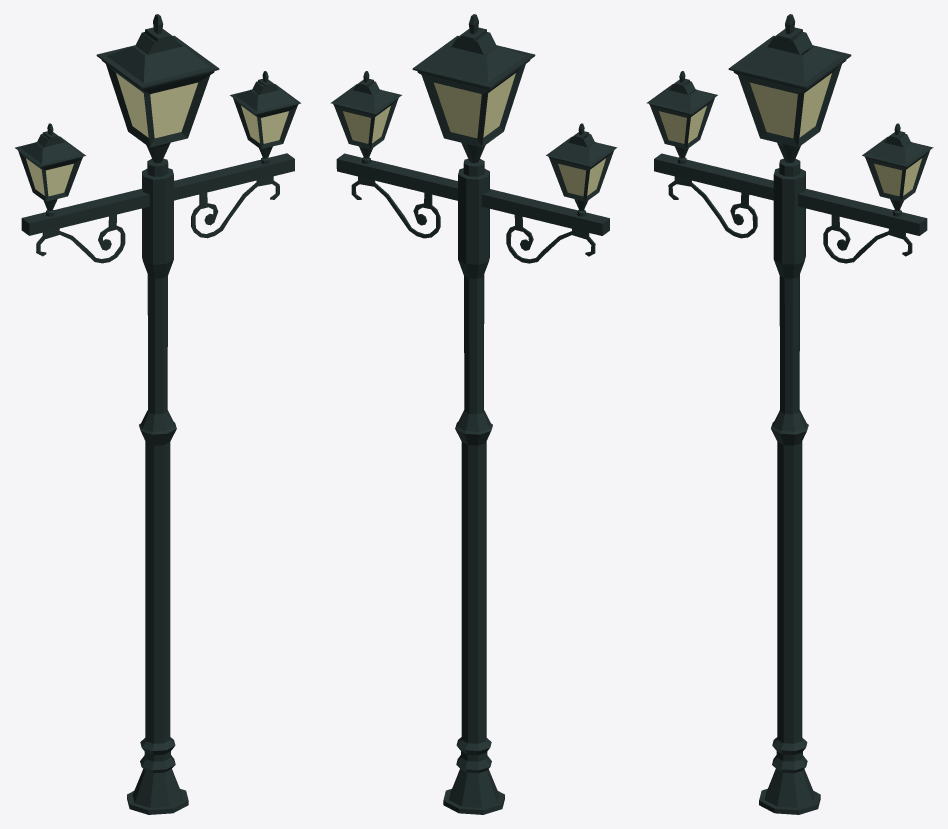
The model's file is Lamp_Post.fbx.
3 views of the same model, side by side, from view 1: azimuth 30°, elevation 25°; view 2: azimuth 150°, elevation 25°; view 3: azimuth 330°, elevation 25° (orthographic).
Parts seen in each view (by area): view 1: Lamp_Post; view 2: Lamp_Post; view 3: Lamp_Post.
Part boxes in pixels (x1,y1,x2,y2): Lamp_Post: (15, 14, 300, 814); Lamp_Post: (330, 14, 617, 814); Lamp_Post: (646, 14, 933, 814).
Size of the model in its own units: 96.02 by 272 by 28.12.
